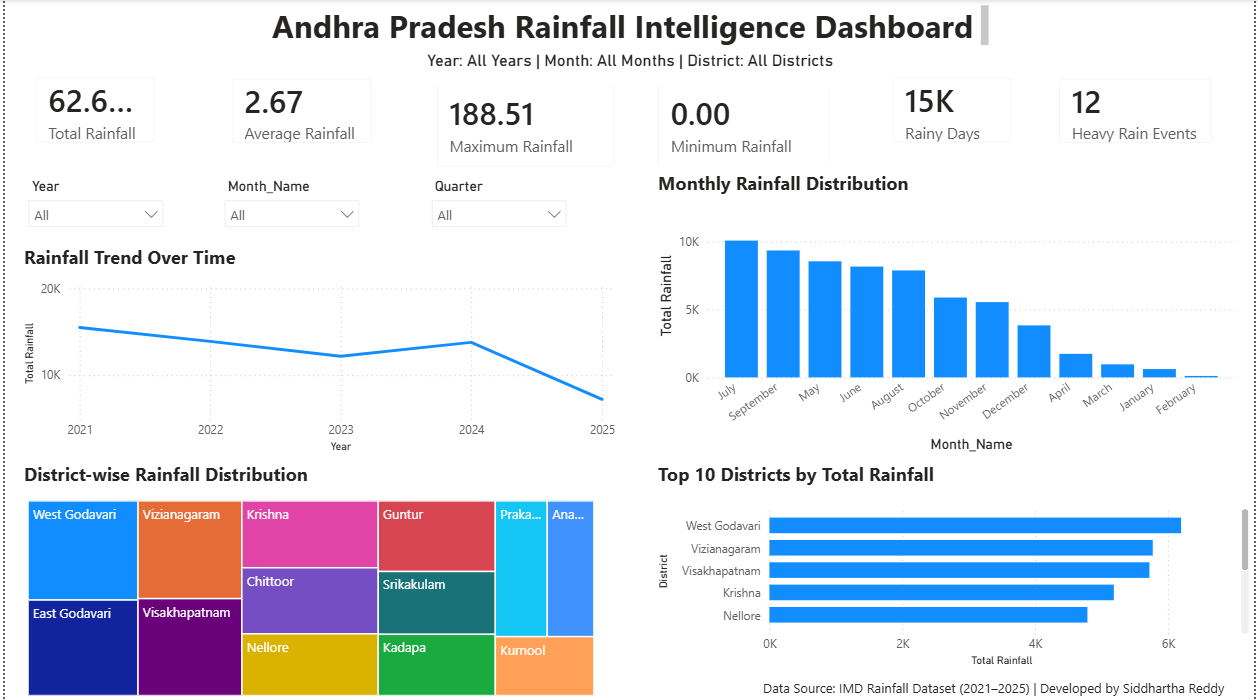

What the dashboard file says about the page in this screenshot:
{"tool":"powerbi","page":{"name":"Overview","canvas":[1280,720],"ordinal":0},"visuals":[{"type":"textbox","box":[268.4,1.4,745,51.7],"z":0},{"type":"cardVisual","fields":{"Data":["Dummy.Total Rainfall"]},"box":[15,63.3,156.7,101.7],"z":1000},{"type":"cardVisual","fields":{"Data":["Dummy.Average Rainfall"]},"box":[215,65,178.3,100],"z":2000},{"type":"cardVisual","fields":{"Data":["Dummy.Heavy Rain Events"]},"box":[1063.3,65,191.7,100],"z":3000},{"type":"cardVisual","fields":{"Data":["Dummy.Rainy Days"]},"box":[893.3,63.3,156.7,101.7],"z":4000},{"type":"cardVisual","fields":{"Data":["Dummy.Minimum Rainfall"]},"box":[664.6,77.5,186.6,100.5],"z":5000},{"type":"cardVisual","fields":{"Data":["Dummy.Maximum Rainfall"]},"box":[437.8,77.5,192.3,100.5],"z":6000},{"type":"slicer","fields":{"Values":["date_dim.Month_Name"]},"box":[215.3,178,157.9,57.4],"z":7000},{"type":"slicer","fields":{"Values":["date_dim.Quarter"]},"box":[427.8,178,157.9,57.4],"z":8000},{"type":"slicer","fields":{"Values":["date_dim.Year"]},"box":[14.4,178,157.9,57.4],"z":9000},{"type":"lineChart","fields":{"Category":["date_dim.Date.Variation.Date Hierarchy.Year","date_dim.Date.Variation.Date Hierarchy.Quarter","date_dim.Date.Variation.Date Hierarchy.Month","date_dim.Date.Variation.Date Hierarchy.Day"],"Y":["Dummy.Total Rainfall"]},"box":[14.4,282.8,615.8,186.6],"z":10000},{"type":"clusteredBarChart","fields":{"Category":["district_dim.District"],"Y":["Dummy.Total Rainfall"]},"box":[664.6,509.6,615.8,179.4],"z":11000},{"type":"treemap","fields":{"Group":["district_dim.District"],"Values":["Dummy.Total Rainfall"]},"box":[18.7,509.6,590,209.6],"z":12000},{"type":"clusteredColumnChart","fields":{"Category":["date_dim.Month_Name"],"Y":["Dummy.Total Rainfall"]},"box":[664.6,206.7,601.4,262.7],"z":13000},{"type":"textbox","box":[14.4,246.9,300,35.9],"z":14000},{"type":"textbox","box":[14.4,469.4,312.9,40.2],"z":15000},{"type":"textbox","box":[664.6,170.8,300,35.9],"z":16000},{"type":"textbox","box":[664.6,469.4,300,40.2],"z":17000},{"type":"textbox","box":[772.3,691.9,508.1,28.7],"z":18000},{"type":"textbox","box":[427.8,53.1,440.7,35.9],"z":19000}]}

Visuals, with their boxes in screenshot pixels (x1, y1, x2, y2), scaled from the page's 1280x720 canvas onto the 1258x700 screenshot:
textbox: crop(264, 1, 996, 52)
cardVisual - Dummy.Total Rainfall: crop(15, 62, 169, 160)
cardVisual - Dummy.Average Rainfall: crop(211, 63, 387, 160)
cardVisual - Dummy.Heavy Rain Events: crop(1045, 63, 1233, 160)
cardVisual - Dummy.Rainy Days: crop(878, 62, 1032, 160)
cardVisual - Dummy.Minimum Rainfall: crop(653, 75, 837, 173)
cardVisual - Dummy.Maximum Rainfall: crop(430, 75, 619, 173)
slicer - date_dim.Month_Name: crop(212, 173, 367, 229)
slicer - date_dim.Quarter: crop(420, 173, 576, 229)
slicer - date_dim.Year: crop(14, 173, 169, 229)
lineChart - date_dim.Date.Variation.Date Hierarchy.Year x date_dim.Date.Variation.Date Hierarchy.Quarter: crop(14, 275, 619, 456)
clusteredBarChart - district_dim.District x Dummy.Total Rainfall: crop(653, 495, 1257, 670)
treemap - district_dim.District x Dummy.Total Rainfall: crop(18, 495, 598, 699)
clusteredColumnChart - date_dim.Month_Name x Dummy.Total Rainfall: crop(653, 201, 1244, 456)
textbox: crop(14, 240, 309, 275)
textbox: crop(14, 456, 322, 495)
textbox: crop(653, 166, 948, 201)
textbox: crop(653, 456, 948, 495)
textbox: crop(759, 673, 1257, 699)
textbox: crop(420, 52, 854, 87)
